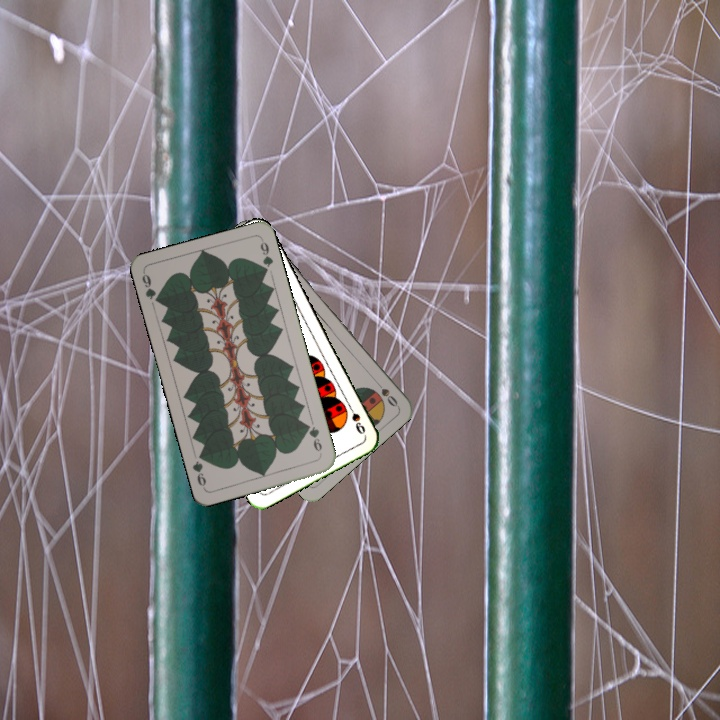G9: (138, 269, 164, 306), (302, 420, 325, 458)
S9: (343, 399, 368, 437)
SO: (370, 375, 400, 410)
